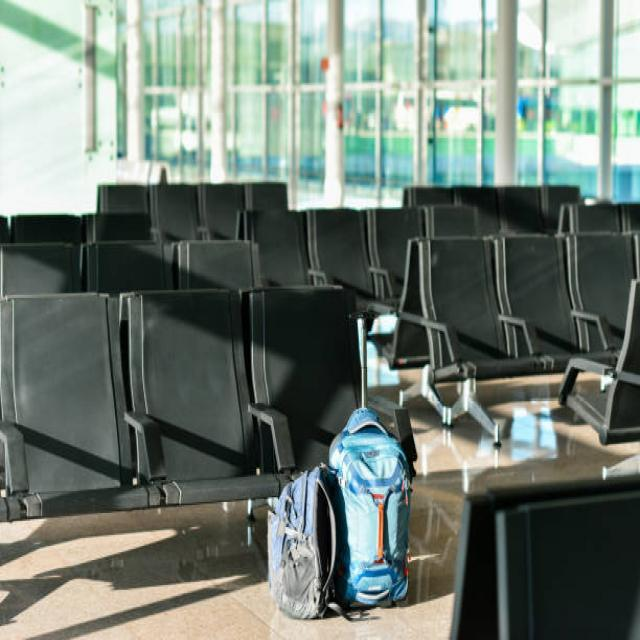Backpacks: (327, 407, 413, 613), (262, 462, 342, 620)
